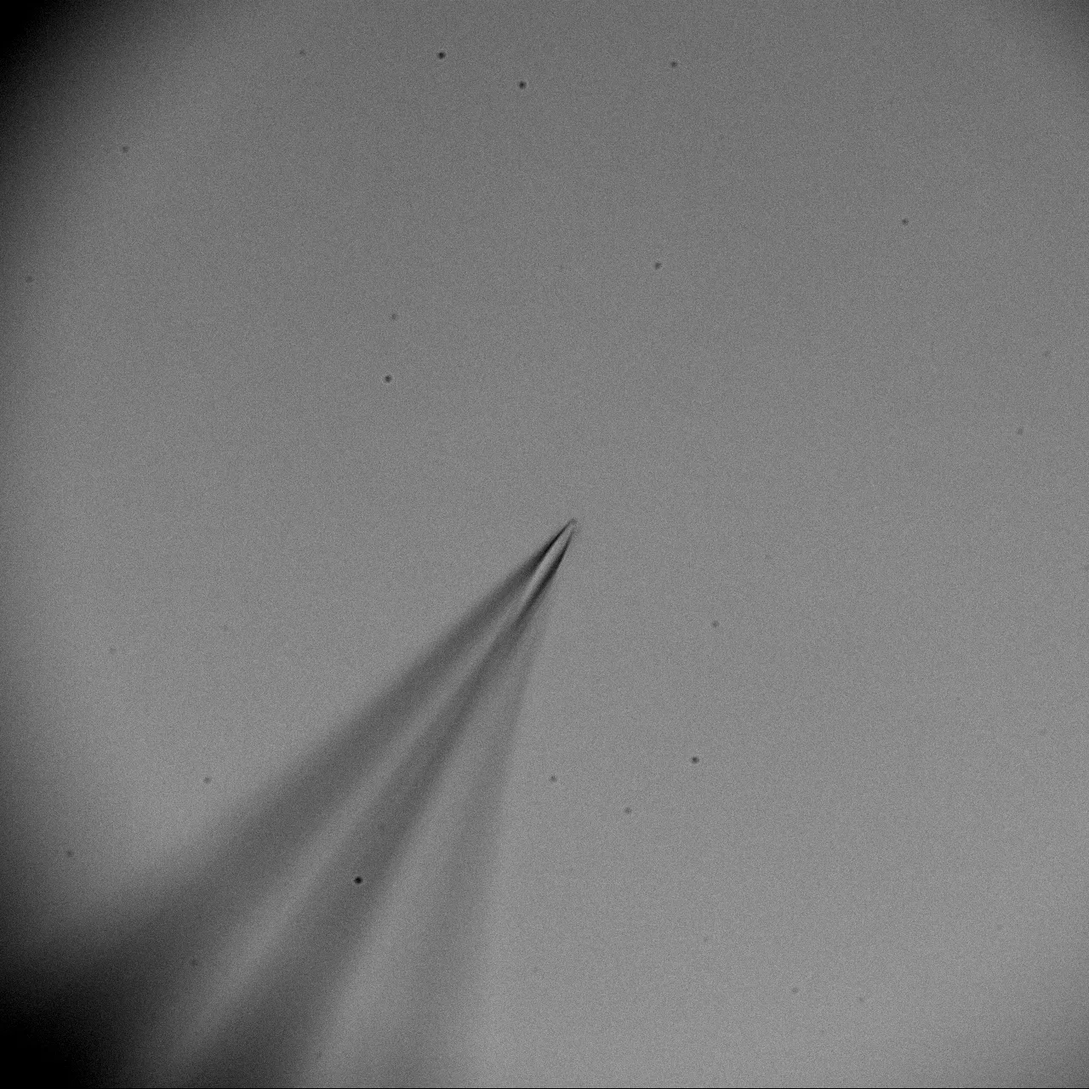tip: (498, 498, 591, 629)
